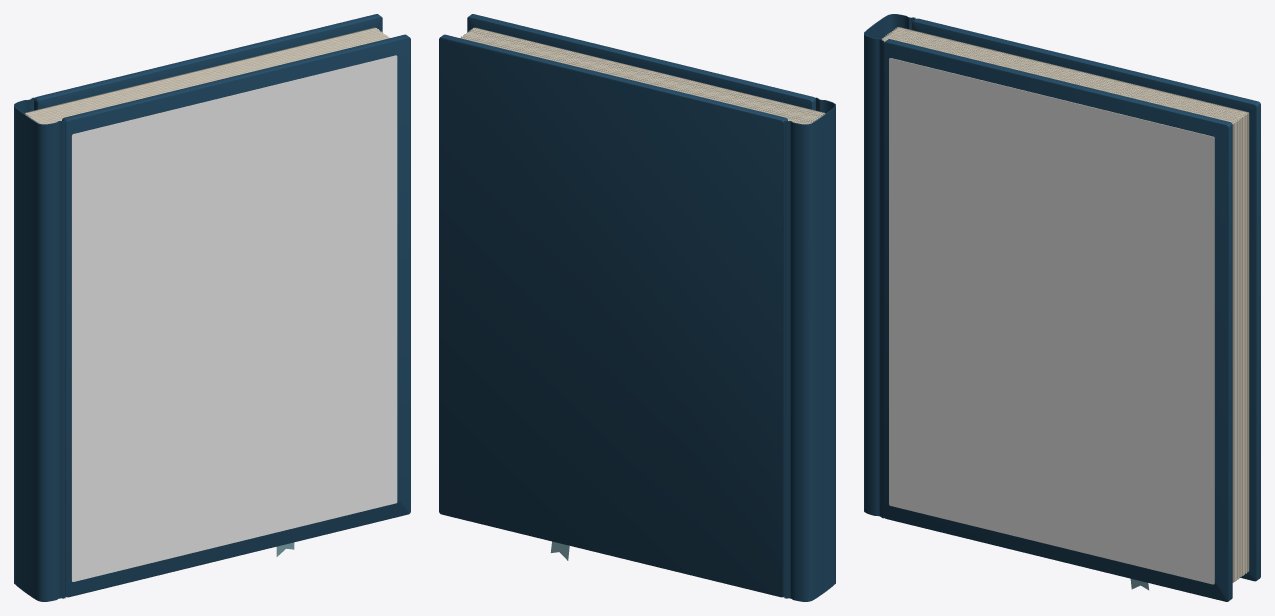
The model's file is career-album.glb.
3 views of the same model, side by side, from view 1: azimuth 30°, elevation 25°; view 2: azimuth 150°, elevation 25°; view 3: azimuth 330°, elevation 25° (orthographic).
Visible parts, largest first — view 1: Career journals · shared binding; view 2: Career journals · shared binding; view 3: Career journals · shared binding.
Boxes of the visible parts, left/top/right/bottom form: Career journals · shared binding: left=14, top=14, right=410, bottom=601; Career journals · shared binding: left=439, top=14, right=835, bottom=601; Career journals · shared binding: left=864, top=14, right=1260, bottom=601.
Size of the model in its own units: 0.1444 by 0.1887 by 0.0222.
